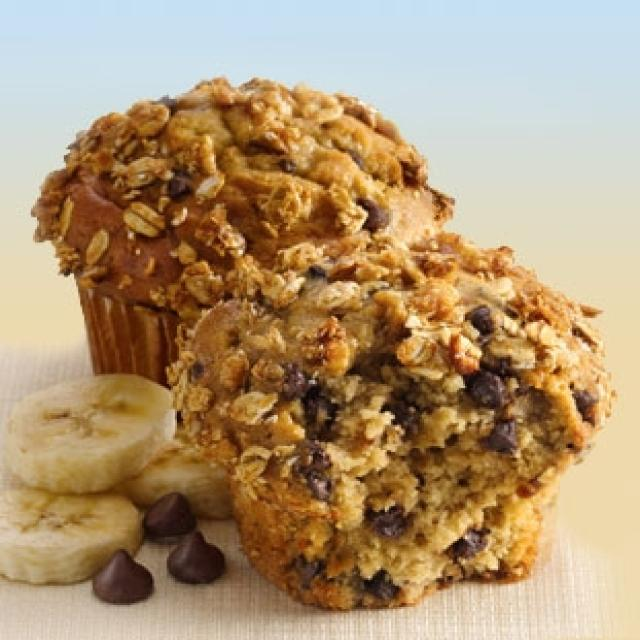炸货点心: (21, 54, 609, 605)
面包点心: (21, 54, 609, 605)
